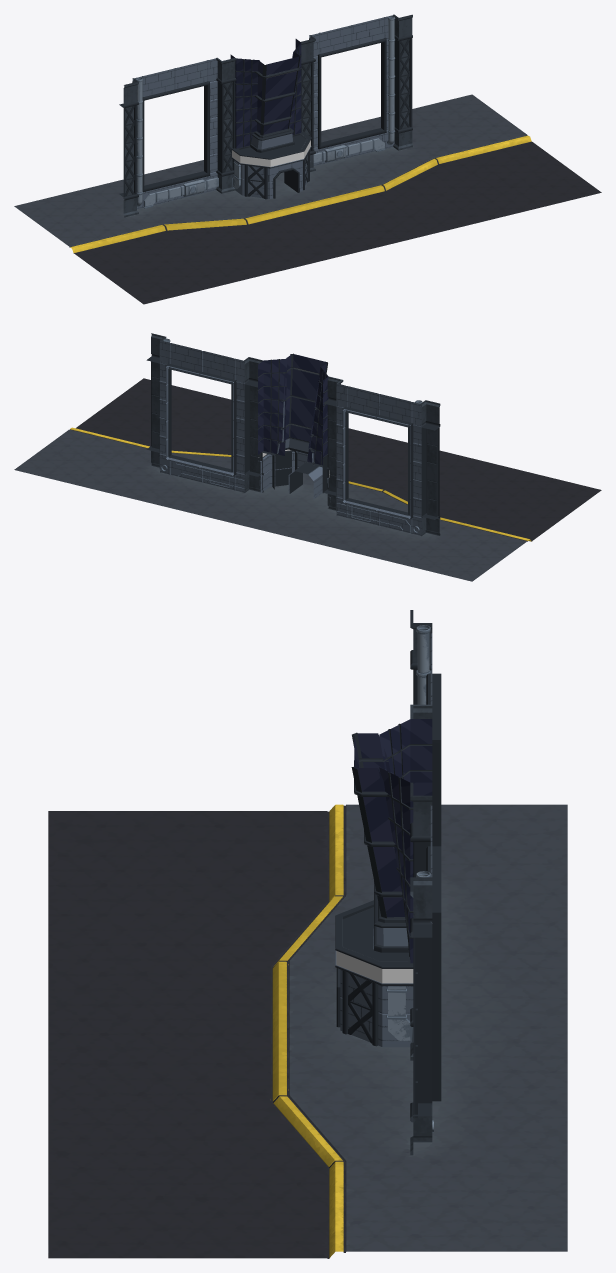
Rendered from Menu_final.fbx.
3 renders of one model, top to bottom at view 1: azimuth 30°, elevation 25°; view 2: azimuth 150°, elevation 25°; view 3: azimuth 270°, elevation 25°, orthographic. The views are drawn at different scales.
Parts seen in each view (by area): view 1: Sol, Colone_gauche, polySurface15, Mur, pCube8, pCube11, Tuyau, Ventila_tion, Colonnes_centrales, Clim, Contour_porte; view 2: Sol, Mur, Colone_gauche, polySurface15, pCube11, pCube8, Colonnes_centrales; view 3: Sol, polySurface15, Colone_gauche, pCube11, pCube8, Colonnes_centrales, Ventila_tion1, Tuyau.
Part boxes in pixels (box(x1,y1,x2,y2)): Sol: box(14, 94, 601, 304); Colone_gauche: box(119, 14, 412, 217); polySurface15: box(231, 52, 311, 198); Mur: box(132, 15, 394, 209); pCube8: box(142, 38, 386, 191); pCube11: box(230, 39, 301, 148); Tuyau: box(135, 16, 395, 206); Ventila_tion: box(143, 138, 385, 208); Colonnes_centrales: box(244, 150, 309, 199); Clim: box(183, 145, 346, 196); Contour_porte: box(273, 167, 299, 198); Sol: box(14, 378, 601, 581); Mur: box(159, 340, 421, 535); Colone_gauche: box(146, 333, 440, 536); polySurface15: box(258, 353, 329, 498); pCube11: box(257, 358, 328, 470); pCube8: box(166, 363, 413, 519); Colonnes_centrales: box(272, 450, 327, 493); Sol: box(48, 804, 567, 1258); polySurface15: box(335, 732, 413, 1047); Colone_gauche: box(410, 610, 432, 1155); pCube11: box(379, 719, 432, 963); pCube8: box(426, 673, 441, 1101); Colonnes_centrales: box(342, 970, 378, 1046); Ventila_tion1: box(386, 986, 413, 1042); Tuyau: box(416, 625, 433, 1132).
Size of the model in its own units: 16.77 by 4.75 by 8.23.
